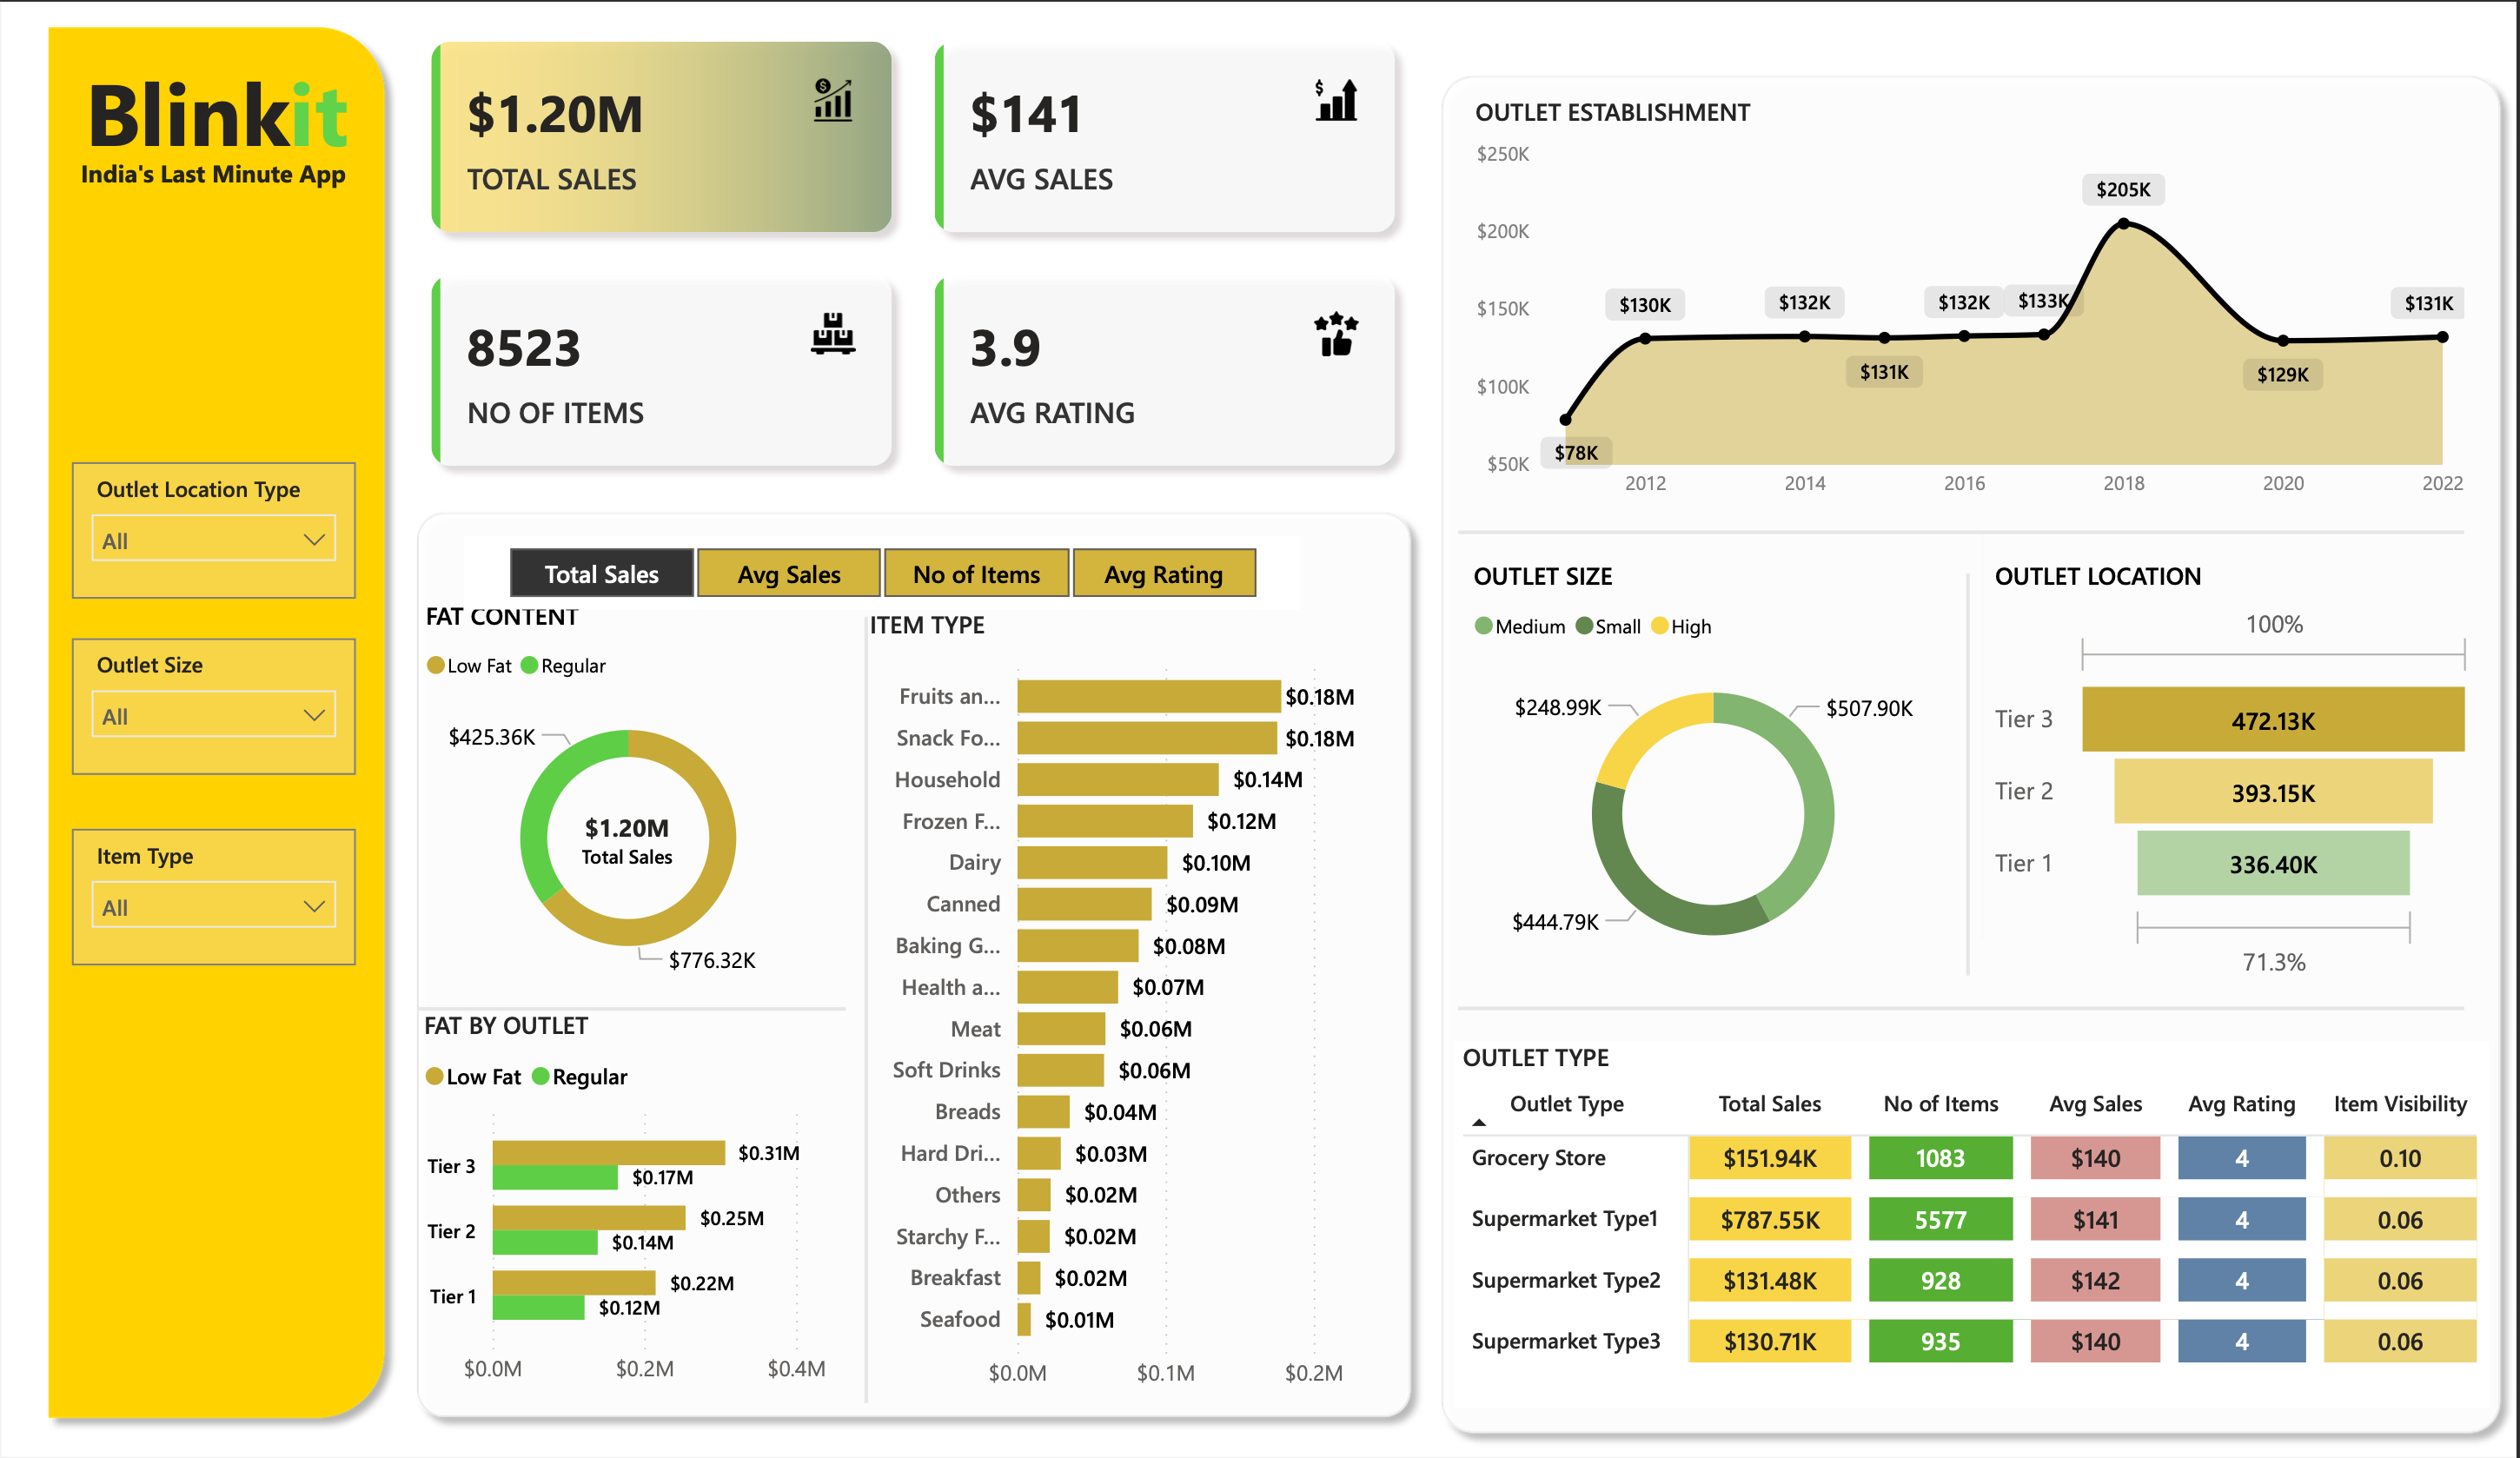

Layout of this report page (visuals, bound fields, positions):
{"tool":"powerbi","page":{"name":"Page 1","canvas":[1400,800],"ordinal":0},"visuals":[{"type":"shape","box":[17.7,0,205,791.8],"z":0},{"type":"textbox","box":[288.1,516.1,187.3,275.7],"z":1000},{"type":"textbox","box":[33.6,17.7,173.2,114.9],"z":2000},{"type":"textbox","box":[19.4,76,199.7,77.8],"z":3000},{"type":"cardVisual","fields":{"Data":["BlinkIT Grocery Data.Total Sales","BlinkIT Grocery Data.Avg Sales","BlinkIT Grocery Data.No of Items","BlinkIT Grocery Data.Avg Rating"]},"box":[222.7,0,570.9,270.4],"z":4000},{"type":"shape","box":[222.7,270.4,570.9,521.4],"z":5000},{"type":"donutChart","title":"FAT CONTENT","fields":{"Y":["BlinkIT Grocery Data.Total Sales"],"Category":["BlinkIT Grocery Data.Item Fat Content"]},"box":[231.5,327,235.1,220.9],"z":6000},{"type":"slicer","fields":{"Values":["Metrics.Metrics"]},"box":[258,291.6,464.8,40.6],"z":7000},{"type":"cardVisual","fields":{"Data":["BlinkIT Grocery Data.Total Sales"]},"box":[300.4,425.9,99,68.9],"z":8000},{"type":"clusteredBarChart","title":"FAT BY OUTLET","fields":{"Y":["BlinkIT Grocery Data.Total Sales"],"Category":["BlinkIT Grocery Data.Outlet Location Type"],"Series":["BlinkIT Grocery Data.Item Fat Content"]},"box":[230.9,554.5,236.4,218.2],"z":9000},{"type":"shape","box":[231.5,533.7,238.6,42.4],"z":10000},{"type":"shape","box":[1096.4,291.1,14.3,225],"z":11000},{"type":"barChart","title":"ITEM TYPE","fields":{"Y":["BlinkIT Grocery Data.Total Sales"],"Category":["BlinkIT Grocery Data.Item Type"]},"box":[479,332.3,296.9,443.6],"z":12000},{"type":"shape","box":[792.9,26.8,607.1,773.2],"z":13000},{"type":"lineChart","title":"OUTLET ESTABLISHMENT","fields":{"Category":["BlinkIT Grocery Data.Outlet Establishment Year"],"Y":["BlinkIT Grocery Data.Total Sales"]},"box":[816.4,47.3,560,232.7],"z":14000},{"type":"shape","box":[810.9,280,560,20],"z":15000},{"type":"donutChart","title":"OUTLET SIZE","fields":{"Y":["BlinkIT Grocery Data.Total Sales"],"Category":["BlinkIT Grocery Data.Outlet Size"]},"box":[814.5,305.5,276.4,238.2],"z":16000},{"type":"shape","box":[473.2,337.5,17.9,437.5],"z":17000},{"type":"shape","box":[1083.6,312.7,21.8,223.6],"z":18000},{"type":"funnel","title":"OUTLET LOCATION","fields":{"Y":["Sum(BlinkIT Grocery Data.Sales)"],"Category":["BlinkIT Grocery Data.Outlet Location Type"]},"box":[1105.5,305.5,276.4,240],"z":19000},{"type":"shape","box":[810.9,543.6,560,21.8],"z":20000},{"type":"pivotTable","title":"OUTLET TYPE","fields":{"Rows":["BlinkIT Grocery Data.Outlet Type"],"Values":["BlinkIT Grocery Data.Total Sales","BlinkIT Grocery Data.No of Items","BlinkIT Grocery Data.Avg Sales","BlinkIT Grocery Data.Avg Rating","Avg(BlinkIT Grocery Data.Item Visibility)"]},"box":[809.1,572.7,576.4,203.6],"z":21000},{"type":"slicer","fields":{"Values":["BlinkIT Grocery Data.Outlet Location Type"]},"box":[40,250.9,158.2,76.4],"z":22000},{"type":"slicer","fields":{"Values":["BlinkIT Grocery Data.Outlet Size"]},"box":[40,349.1,158.2,76.4],"z":23000},{"type":"slicer","fields":{"Values":["BlinkIT Grocery Data.Item Type"]},"box":[40,454.5,158.2,76.4],"z":24000}]}

Visuals, with their boxes in screenshot pixels (x1, y1, x2, y2), scaled from the page's 1400x800 canvas onto the 2520x1458 screenshot:
shape: BBox(32, 0, 401, 1443)
textbox: BBox(519, 941, 856, 1443)
textbox: BBox(61, 32, 372, 242)
textbox: BBox(35, 138, 395, 281)
cardVisual - BlinkIT Grocery Data.Total Sales x BlinkIT Grocery Data.Avg Sales: BBox(401, 0, 1429, 493)
shape: BBox(401, 493, 1429, 1443)
"FAT CONTENT" donutChart: BBox(417, 596, 840, 998)
slicer - Metrics.Metrics: BBox(464, 532, 1301, 606)
cardVisual - BlinkIT Grocery Data.Total Sales: BBox(540, 776, 719, 902)
"FAT BY OUTLET" clusteredBarChart: BBox(415, 1011, 841, 1408)
shape: BBox(417, 972, 846, 1050)
shape: BBox(1973, 531, 1999, 941)
"ITEM TYPE" barChart: BBox(862, 606, 1396, 1414)
shape: BBox(1427, 49, 2519, 1457)
"OUTLET ESTABLISHMENT" lineChart: BBox(1469, 86, 2477, 510)
shape: BBox(1460, 510, 2468, 547)
"OUTLET SIZE" donutChart: BBox(1466, 557, 1964, 991)
shape: BBox(852, 615, 884, 1413)
shape: BBox(1951, 570, 1990, 978)
"OUTLET LOCATION" funnel: BBox(1990, 557, 2488, 994)
shape: BBox(1460, 991, 2468, 1031)
"OUTLET TYPE" pivotTable: BBox(1456, 1044, 2494, 1415)
slicer - BlinkIT Grocery Data.Outlet Location Type: BBox(72, 457, 357, 597)
slicer - BlinkIT Grocery Data.Outlet Size: BBox(72, 636, 357, 775)
slicer - BlinkIT Grocery Data.Item Type: BBox(72, 828, 357, 968)
